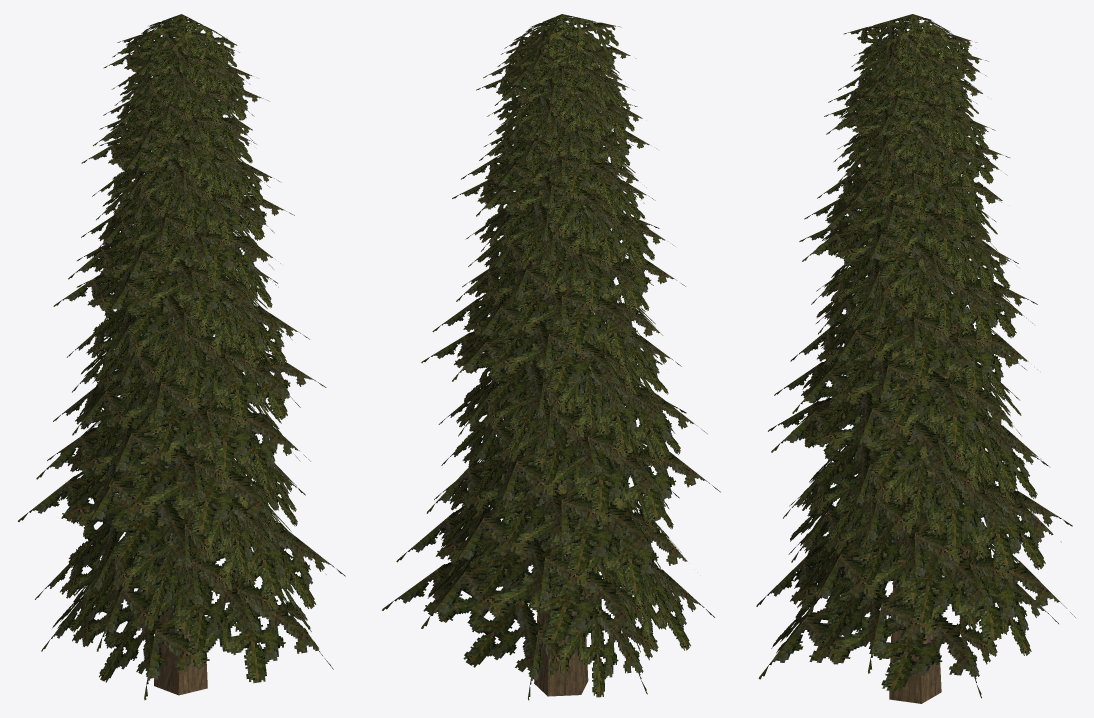
Rendered from tree.glb.
The picture shows the model from 3 angles, left to right: view 1: azimuth 30°, elevation 25°; view 2: azimuth 150°, elevation 25°; view 3: azimuth 270°, elevation 25°; orthographic projection.
Visible parts, largest first — view 1: tree; view 2: tree; view 3: tree.
Part boxes in pixels (x1,y1,x2,y2): tree: [18, 14, 345, 700]; tree: [382, 14, 720, 700]; tree: [756, 14, 1075, 703].
Bounding box in the file's own units: 5.73 × 12.95 × 5.65.
2 materials, 2 textured.
